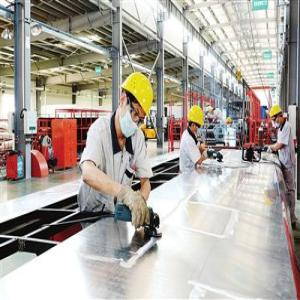yellow: (115, 74, 154, 139), (186, 106, 205, 136), (270, 104, 286, 130)
